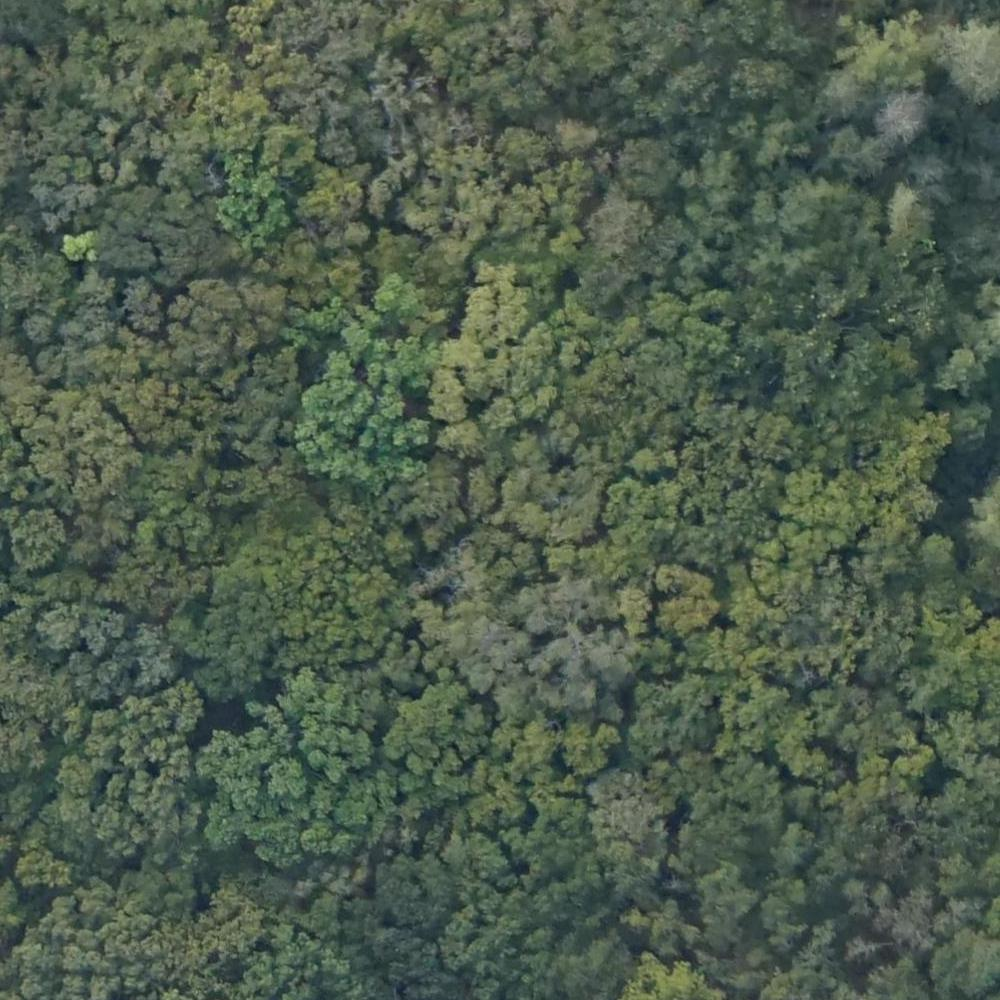tree: (167, 282, 246, 359), (214, 175, 294, 249), (382, 854, 448, 934), (937, 26, 1000, 107), (398, 476, 469, 541), (395, 699, 452, 769), (616, 136, 680, 196), (308, 718, 372, 778), (677, 318, 738, 378), (120, 625, 178, 686), (9, 506, 70, 564), (697, 863, 754, 921), (208, 555, 264, 609), (201, 789, 253, 846), (246, 815, 296, 867), (264, 125, 313, 176), (751, 411, 796, 464), (635, 294, 687, 339), (560, 723, 609, 770), (501, 120, 551, 166), (875, 97, 926, 142), (377, 271, 424, 318), (554, 110, 600, 155), (689, 519, 734, 564), (482, 625, 529, 668), (661, 597, 710, 638), (940, 348, 978, 397), (39, 613, 80, 657), (510, 506, 555, 544), (427, 376, 469, 416), (439, 426, 482, 465), (888, 191, 933, 228), (619, 591, 660, 624), (124, 275, 158, 312), (332, 258, 367, 291), (442, 331, 477, 362), (23, 308, 51, 340), (551, 228, 578, 260), (369, 178, 395, 211), (386, 535, 416, 563), (340, 222, 370, 245)
